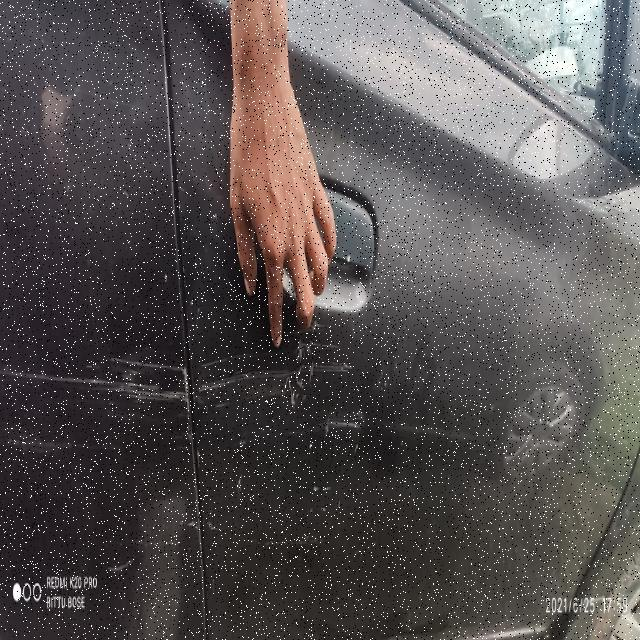doorouter-dent: (199, 3, 584, 627), (0, 0, 200, 624)
